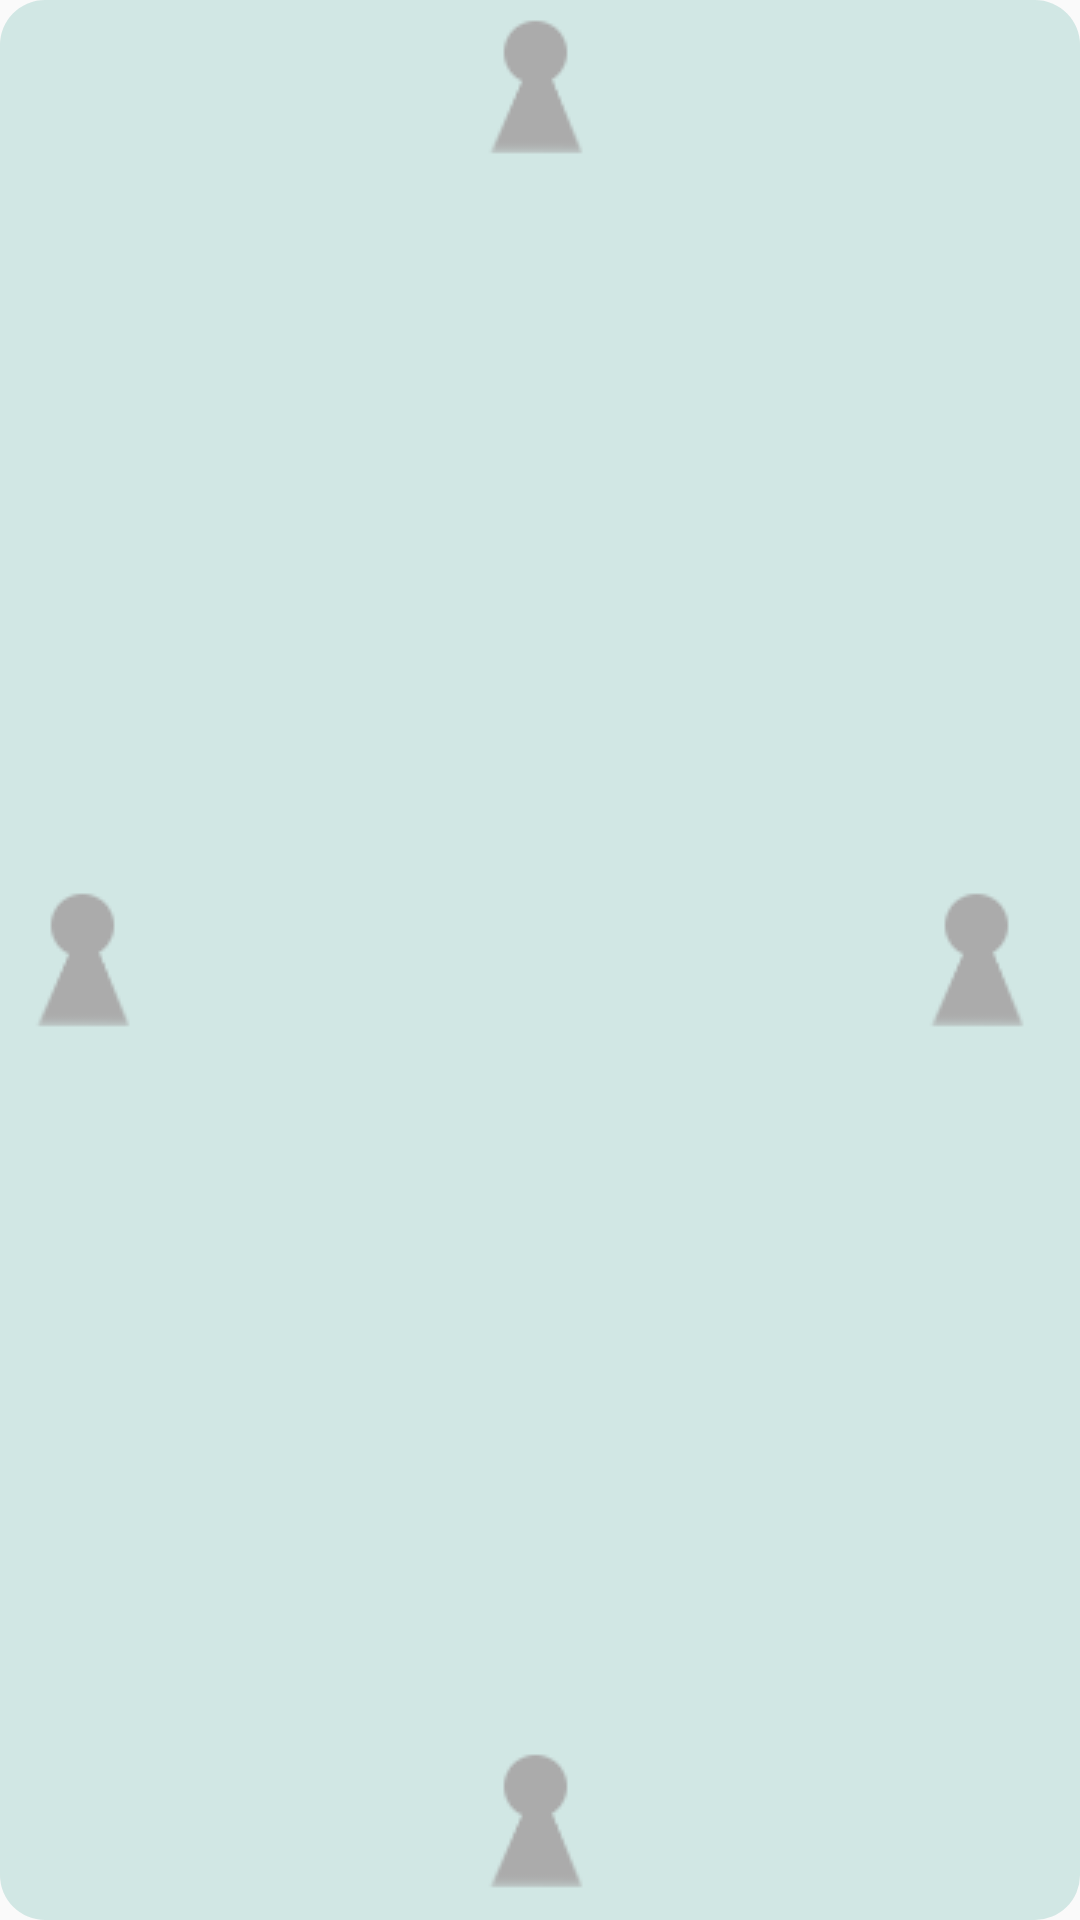

Icon bounding boxes for this 1080px x 1920px phone screenshot, format rect(x1, y1, x2, y2):
figure: rect(493, 21, 581, 152), rect(40, 894, 128, 1025), rect(934, 894, 1022, 1025), rect(493, 1755, 581, 1886)
